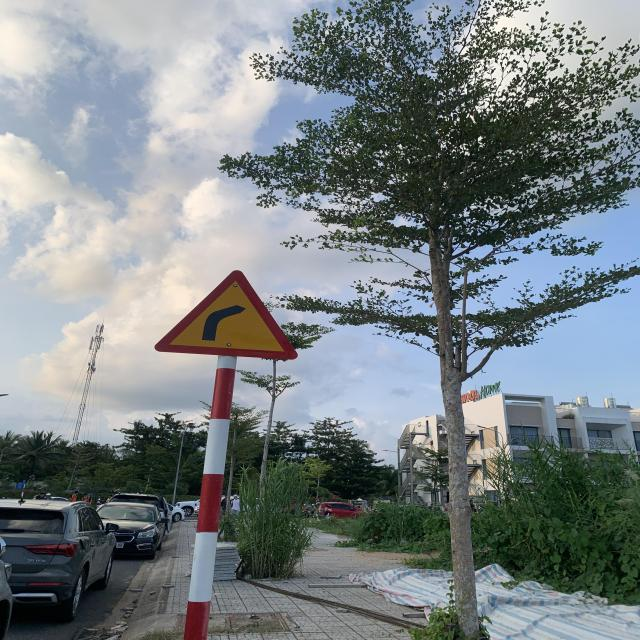Duong_Nguoi_Di_Bo_Cat_Ngang: (160, 271, 292, 361)
